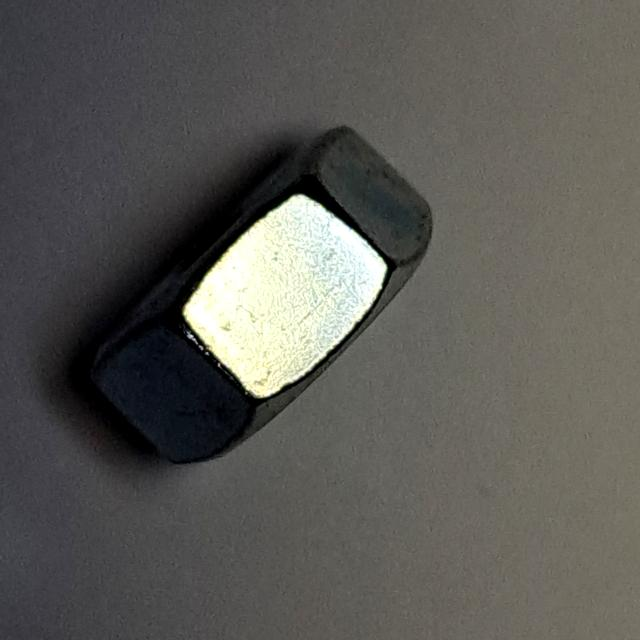Side_Excellent: (66, 107, 449, 475)
